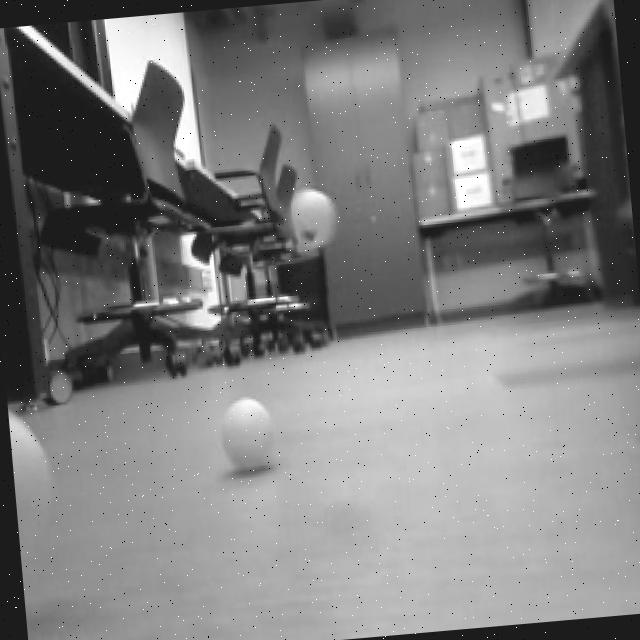ping-pong-ball: (5, 388, 60, 574), (212, 388, 282, 479), (283, 180, 341, 254)
